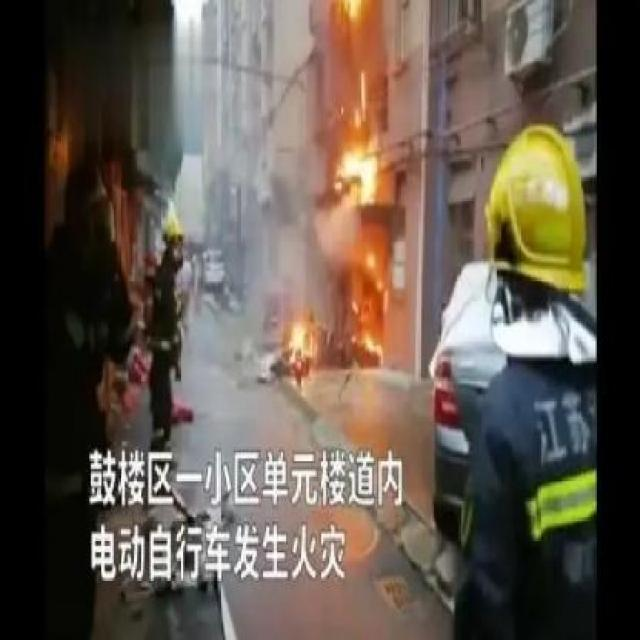Fire: (336, 141, 376, 201), (290, 319, 312, 372), (356, 328, 384, 354), (337, 0, 363, 23)
Smoke: (249, 160, 346, 334)
